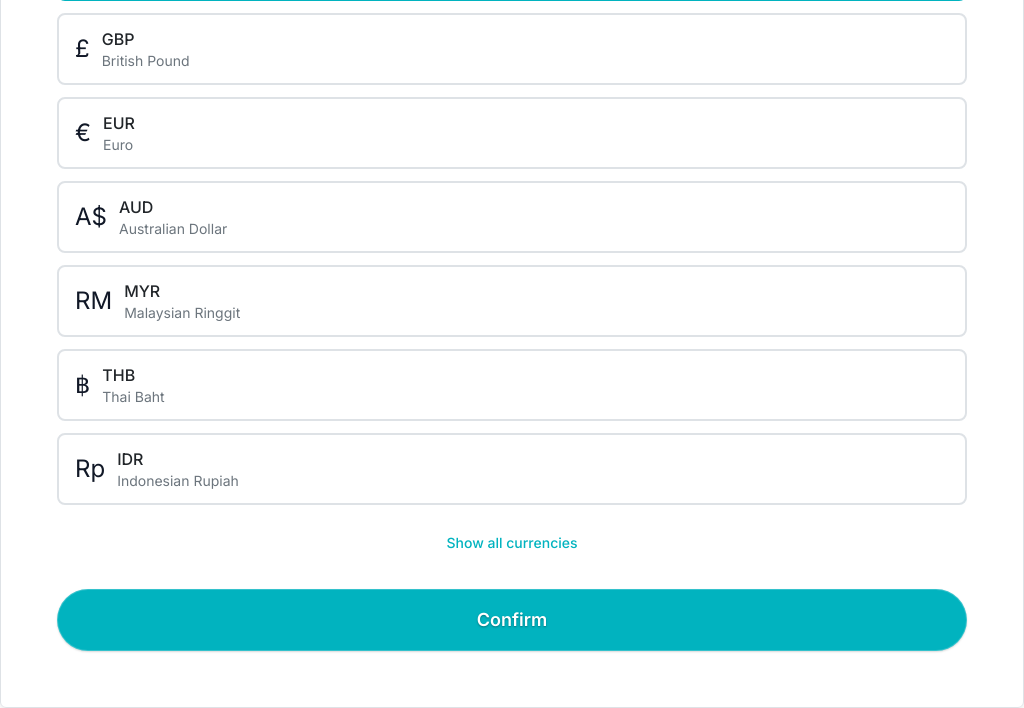
Test case: MenuCurrencyOnboarding › Show All Currencies › filters currencies based on search query (by name)
The width and height of the screenshot is (1024, 708).
(page scrolled)
Show all currencies
Click the button "Show all currencies" at (512, 543), box [57, 521, 967, 565]
(page scrolled)
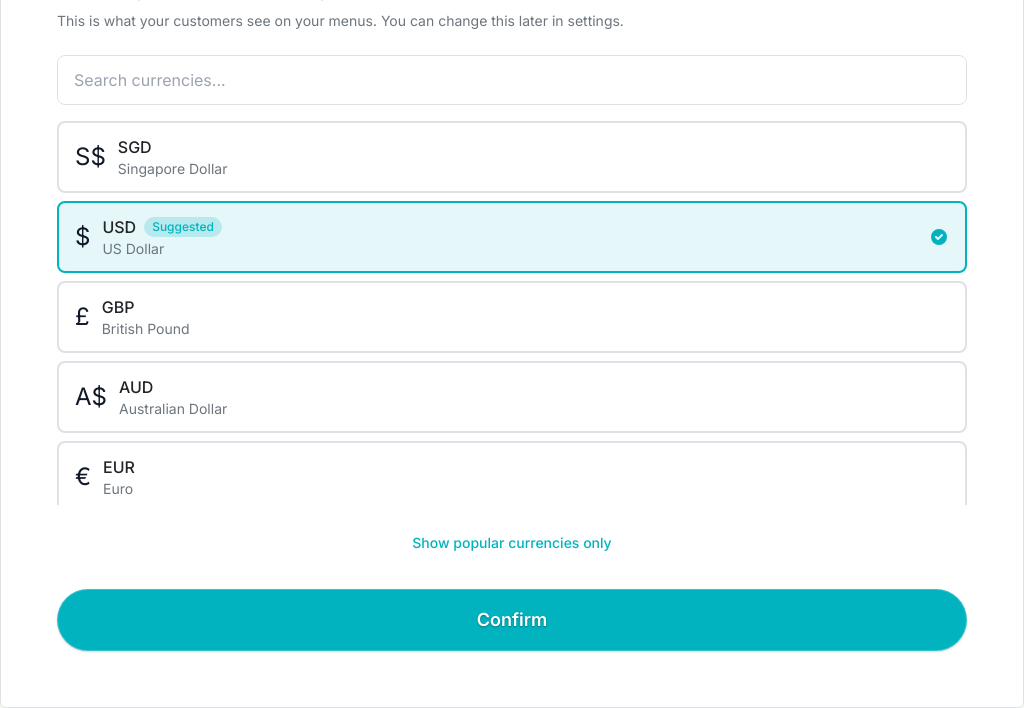
Search for "Japanese"
Type "Japanese" into the field with placeholder "Search currencies..." at (512, 80), box [57, 55, 967, 105]
(page scrolled)
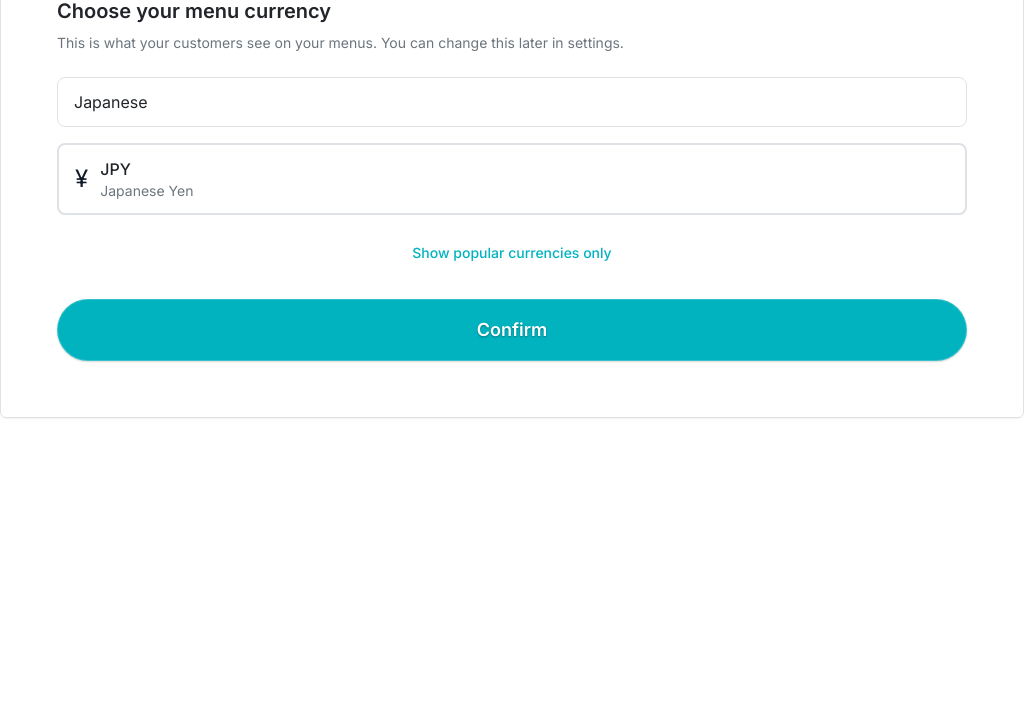
Check: the text "JPY" is shown, box [100, 159, 131, 179]
Check: the text "Japanese Yen" is shown, box [100, 181, 193, 201]
